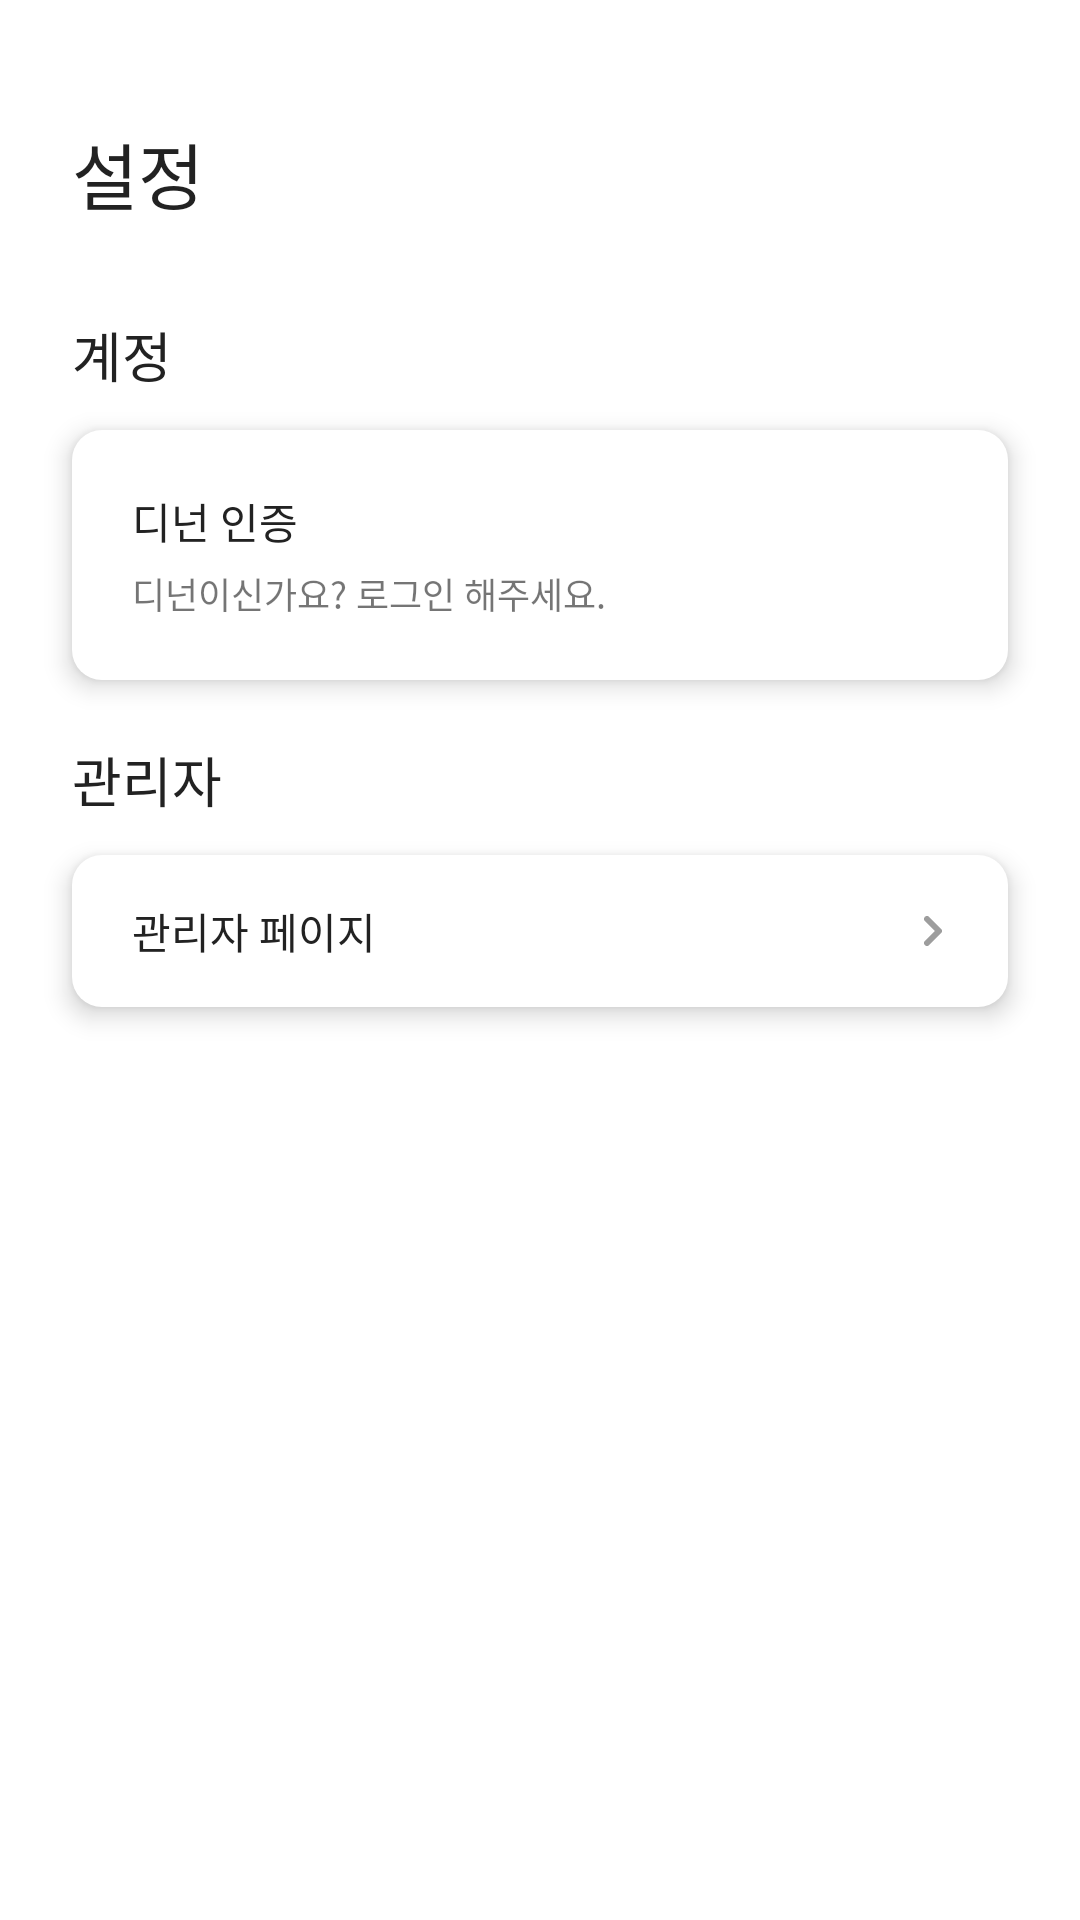

Locate icon controls on the screen. Image size 1080px x 1920px, boxes as (x1, y1, x2, y2).
right arrow: (924, 916, 942, 946)
